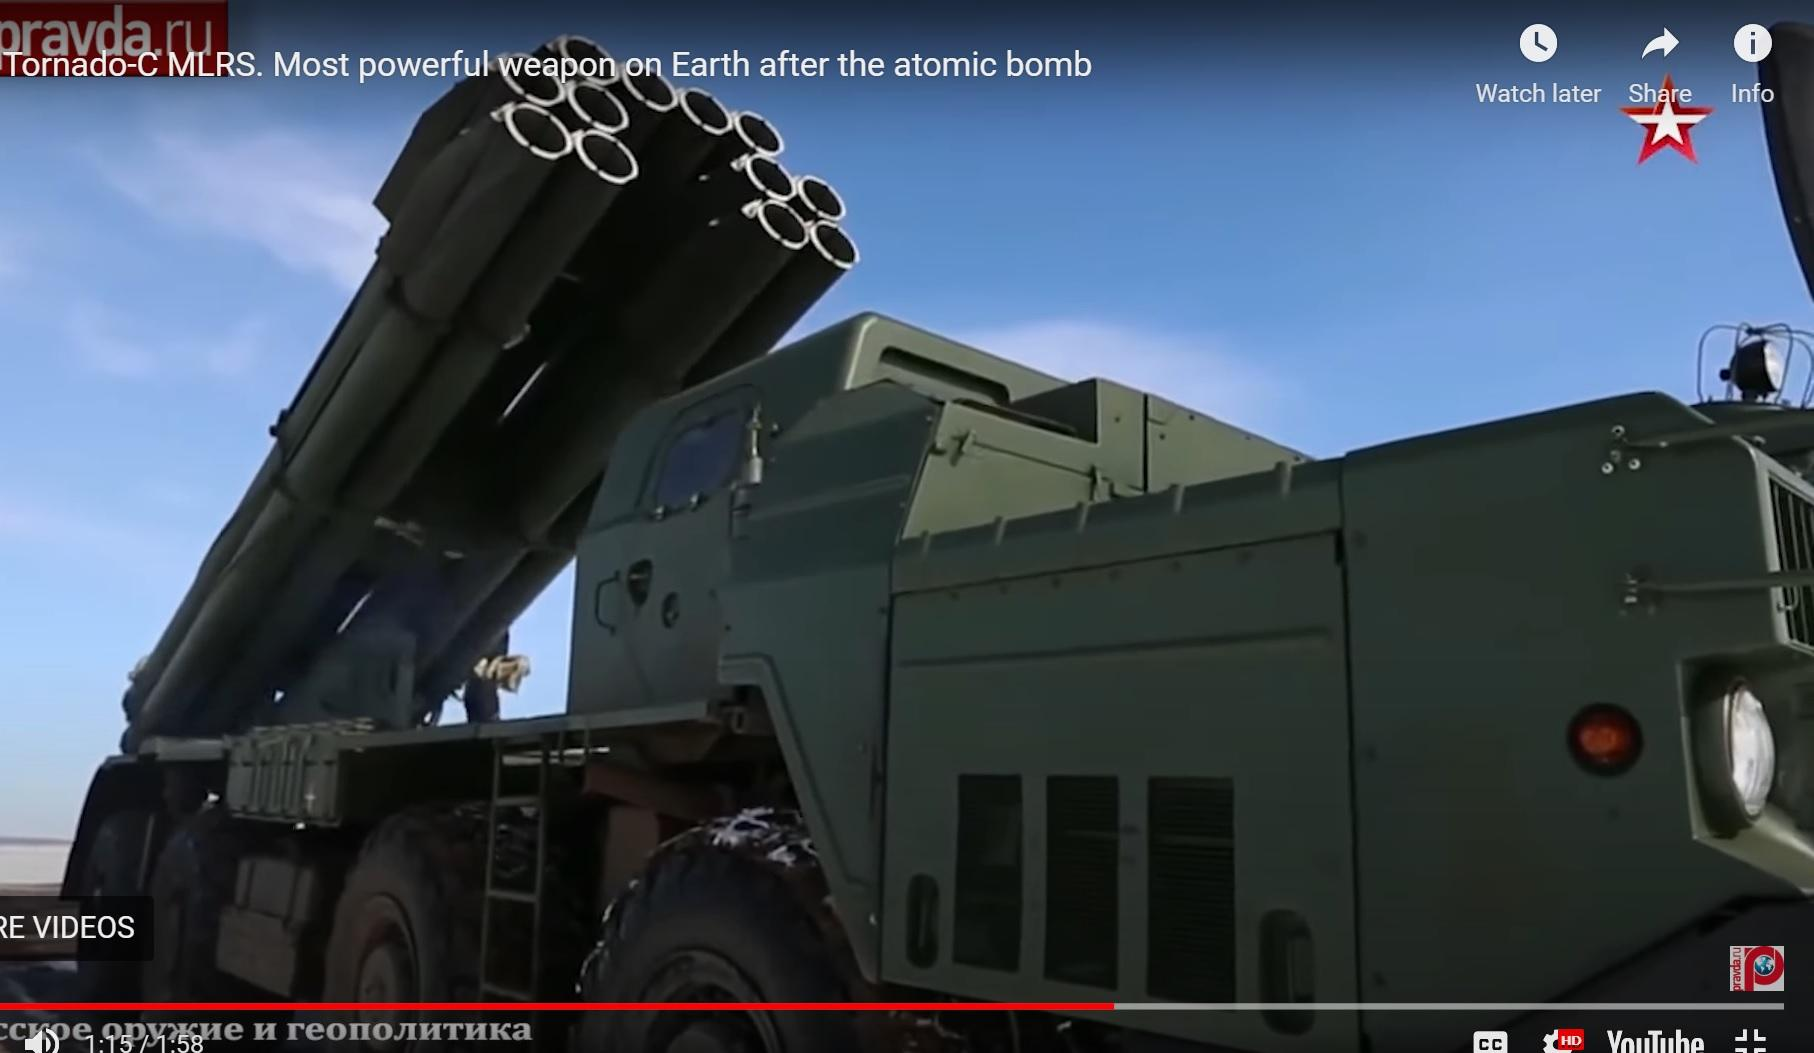MIL_SAM_TEL: (64, 70, 1814, 988)
